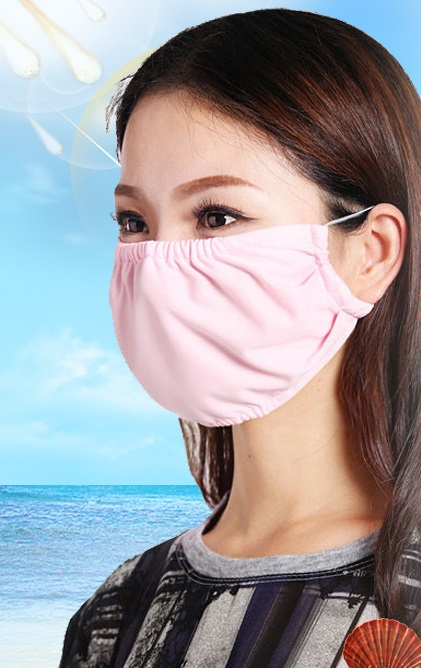face_mask: (107, 92, 330, 425)
